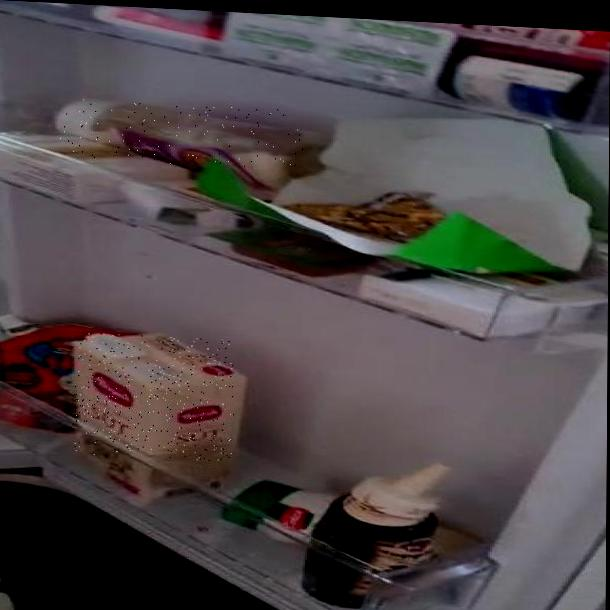milk: (74, 332, 234, 462)
sauce: (53, 97, 303, 171)
